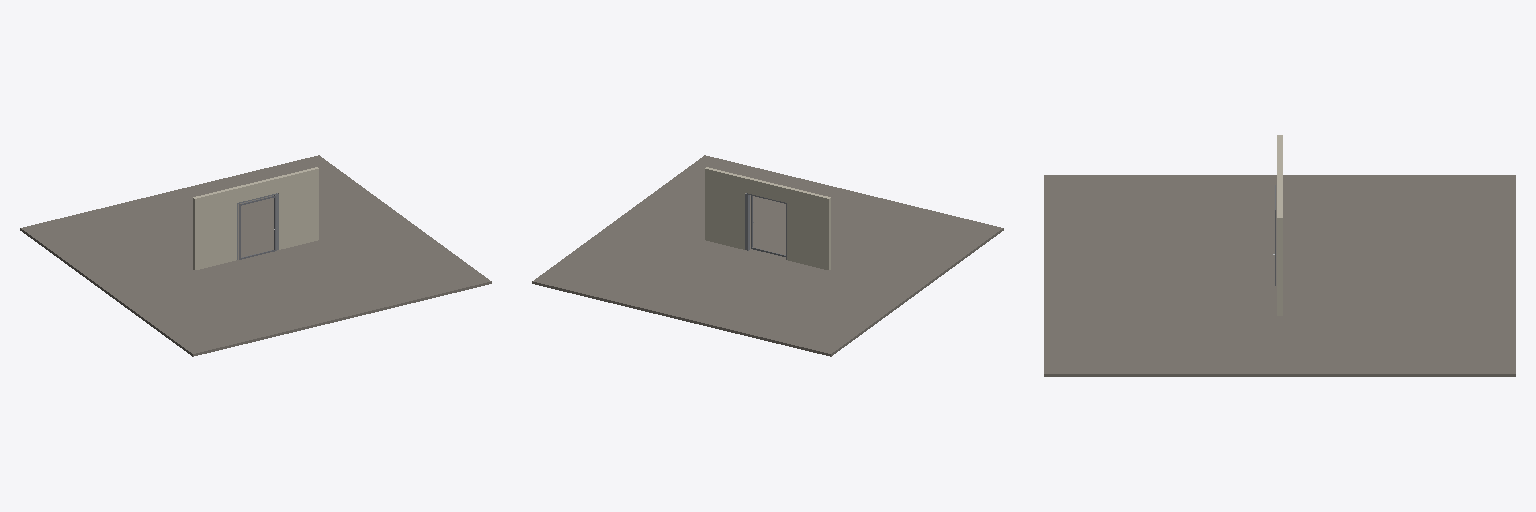
robot.urdf — db0581_sliding_single_minimal:
<?xml version="1.0" ?>
<robot xmlns:doorbench="https://github.com/adamraudonis/DoorBench/schema/urdf-ext" name="db0581_sliding_single_minimal">
  <link name="world_env">
    <visual name="floor_vis">
      <origin xyz="0 0 -0.05" rpy="0 0 0"/>
      <geometry>
        <box size="12 12 0.1"/>
      </geometry>
      <material name="mat_floor"/>
    </visual>
    <collision name="floor_col">
      <origin xyz="0 0 -0.05" rpy="0 0 0"/>
      <geometry>
        <box size="12 12 0.1"/>
      </geometry>
    </collision>
    <visual name="wall_left_vis">
      <origin xyz="-1.6525 0 1.377" rpy="0 0 0"/>
      <geometry>
        <box size="1.695 0.145 2.754"/>
      </geometry>
      <material name="mat_wall"/>
    </visual>
    <collision name="wall_left_col">
      <origin xyz="-1.6525 0 1.377" rpy="0 0 0"/>
      <geometry>
        <box size="1.695 0.145 2.754"/>
      </geometry>
    </collision>
    <visual name="wall_right_vis">
      <origin xyz="1.6825 0 1.377" rpy="0 0 0"/>
      <geometry>
        <box size="1.635 0.145 2.754"/>
      </geometry>
      <material name="mat_wall"/>
    </visual>
    <collision name="wall_right_col">
      <origin xyz="1.6825 0 1.377" rpy="0 0 0"/>
      <geometry>
        <box size="1.635 0.145 2.754"/>
      </geometry>
    </collision>
    <visual name="wall_header_vis">
      <origin xyz="0.03 0 2.4765" rpy="0 0 0"/>
      <geometry>
        <box size="1.67 0.145 0.555"/>
      </geometry>
      <material name="mat_wall"/>
    </visual>
    <collision name="wall_header_col">
      <origin xyz="0.03 0 2.4765" rpy="0 0 0"/>
      <geometry>
        <box size="1.67 0.145 0.555"/>
      </geometry>
    </collision>
    <visual name="jamb_l_vis">
      <origin xyz="-0.7825 0 1.077" rpy="0 0 0"/>
      <geometry>
        <box size="0.045 0.145 2.154"/>
      </geometry>
      <material name="mat_frame"/>
    </visual>
    <collision name="jamb_l_col">
      <origin xyz="-0.7825 0 1.077" rpy="0 0 0"/>
      <geometry>
        <box size="0.045 0.145 2.154"/>
      </geometry>
    </collision>
    <visual name="jamb_head_vis">
      <origin xyz="0 0 2.1765" rpy="0 0 0"/>
      <geometry>
        <box size="1.61 0.145 0.045"/>
      </geometry>
      <material name="mat_frame"/>
    </visual>
    <collision name="jamb_head_col">
      <origin xyz="0 0 2.1765" rpy="0 0 0"/>
      <geometry>
        <box size="1.61 0.145 0.045"/>
      </geometry>
    </collision>
    <visual name="jamb_latch_0_vis">
      <origin xyz="0.8125 0 1.077" rpy="0 0 0"/>
      <geometry>
        <box size="0.105 0.145 2.154"/>
      </geometry>
      <material name="mat_frame"/>
    </visual>
    <collision name="jamb_latch_0_col">
      <origin xyz="0.8125 0 1.077" rpy="0 0 0"/>
      <geometry>
        <box size="0.105 0.145 2.154"/>
      </geometry>
    </collision>
  </link>
  <link name="leaf">
    <inertial>
      <origin xyz="0.002133 -0.000203 1.078583" rpy="0 0 0"/>
      <mass value="139.383325"/>
      <inertia ixx="52.745704053" ixy="0.018605108" ixz="0.038224433" iyy="78.984140197" iyz="-0.003636453" izz="26.256811517"/>
    </inertial>
    <collision name="leaf_slab_col_col">
      <origin xyz="0 0 1.079" rpy="0 0 0"/>
      <geometry>
        <box size="1.5 0.025 2.134"/>
      </geometry>
    </collision>
    <visual name="leaf_rail_b_vis">
      <origin xyz="0 0 0.042" rpy="0 0 0"/>
      <geometry>
        <box size="1.5 0.025 0.06"/>
      </geometry>
      <material name="mat_leaf"/>
    </visual>
    <visual name="leaf_rail_t_vis">
      <origin xyz="0 0 2.116" rpy="0 0 0"/>
      <geometry>
        <box size="1.5 0.025 0.06"/>
      </geometry>
      <material name="mat_leaf"/>
    </visual>
    <visual name="leaf_stile_h_vis">
      <origin xyz="-0.72 0 1.079" rpy="0 0 0"/>
      <geometry>
        <box size="0.06 0.025 2.134"/>
      </geometry>
      <material name="mat_leaf"/>
    </visual>
    <visual name="leaf_stile_l_vis">
      <origin xyz="0.72 0 1.079" rpy="0 0 0"/>
      <geometry>
        <box size="0.06 0.025 2.134"/>
      </geometry>
      <material name="mat_leaf"/>
    </visual>
    <visual name="leaf_pull_n_vis">
      <origin xyz="0.66 -0.0125 0.95" rpy="1.570796 0 0"/>
      <geometry>
        <mesh filename="../../hardware/pull_1e5d69a91a.obj"/>
      </geometry>
      <material name="mat_op_stainless"/>
    </visual>
    <collision name="leaf_pull_col_n_col">
      <origin xyz="0.66 -0.0725 0.95" rpy="0 0 0"/>
      <geometry>
        <cylinder radius="0.0095" length="0.16"/>
      </geometry>
    </collision>
  </link>
  <joint name="leaf_slide" type="prismatic">
    <origin xyz="0 -0.105 0" rpy="0 0 0"/>
    <parent link="world_env"/>
    <child link="leaf"/>
    <axis xyz="-1 0 0"/>
    <limit lower="0" upper="1.5" effort="5000" velocity="10"/>
    <dynamics damping="8.969166" friction="27.33767"/>
  </joint>
  <material name="mat_floor">
    <color rgba="0.55 0.53 0.5 1"/>
  </material>
  <material name="mat_frame">
    <color rgba="0.55 0.56 0.58 1"/>
  </material>
  <material name="mat_leaf">
    <color rgba="0.5 0.51 0.53 1"/>
  </material>
  <material name="mat_op_stainless">
    <color rgba="0.75 0.76 0.77 1"/>
  </material>
  <material name="mat_wall">
    <color rgba="0.78 0.76 0.7 1"/>
  </material>
</robot>

--- Facts derived from the render (not from the file) ---
The picture shows the robot from 3 angles, left to right: view 1: azimuth 30°, elevation 25°; view 2: azimuth 150°, elevation 25°; view 3: azimuth 270°, elevation 25°; orthographic projection.
Model db0581_sliding_single_minimal with 2 links and 1 joints (1 prismatic), rooted at world_env, posed all joints at 0.
Links seen in each view (by area): view 1: world_env; view 2: world_env; view 3: world_env.
Link boxes in pixels (<box>): world_env: <box>20,155,491,356</box>; world_env: <box>532,155,1003,356</box>; world_env: <box>1044,135,1515,376</box>.
Bounding box of the posed robot: 12 × 12 × 2.85 m (x, y, z).
1 mesh visuals loaded from 1 distinct referenced files (1 OBJ).
